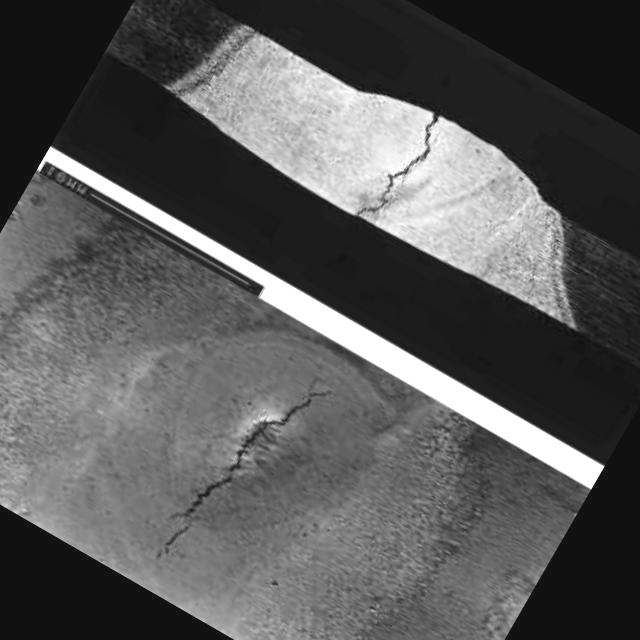defect: (159, 388, 344, 563), (351, 110, 444, 217)
